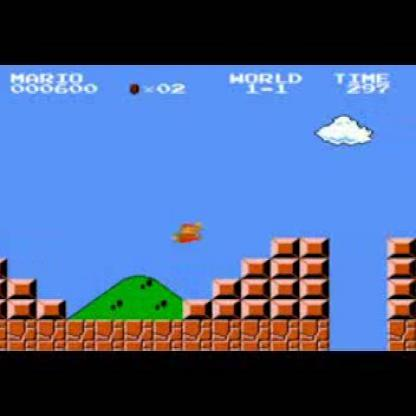Hoyo: (326, 320, 391, 350)
